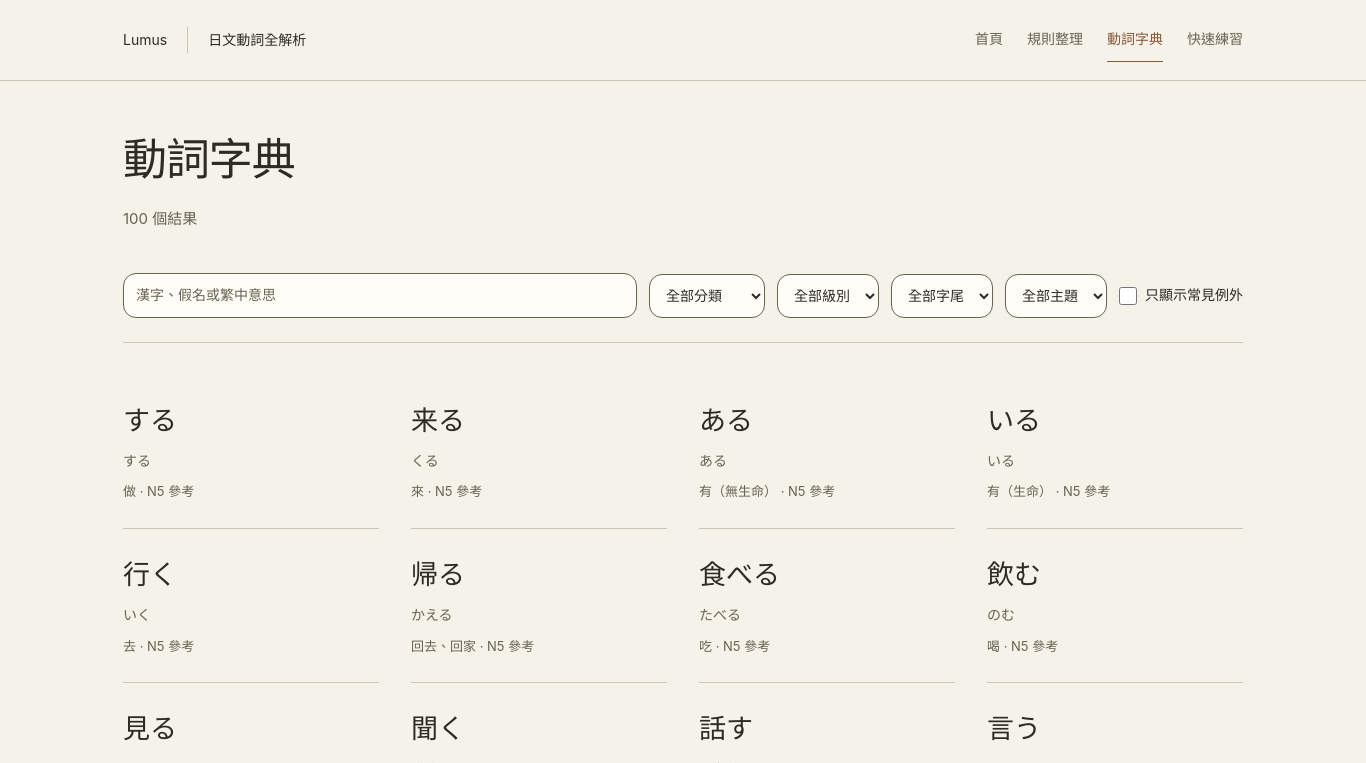
router › filters the dictionary to known exceptions
Click the checkbox labelled "只顯示常見例外" at coordinates (1128, 296), box [1119,287,1137,305]
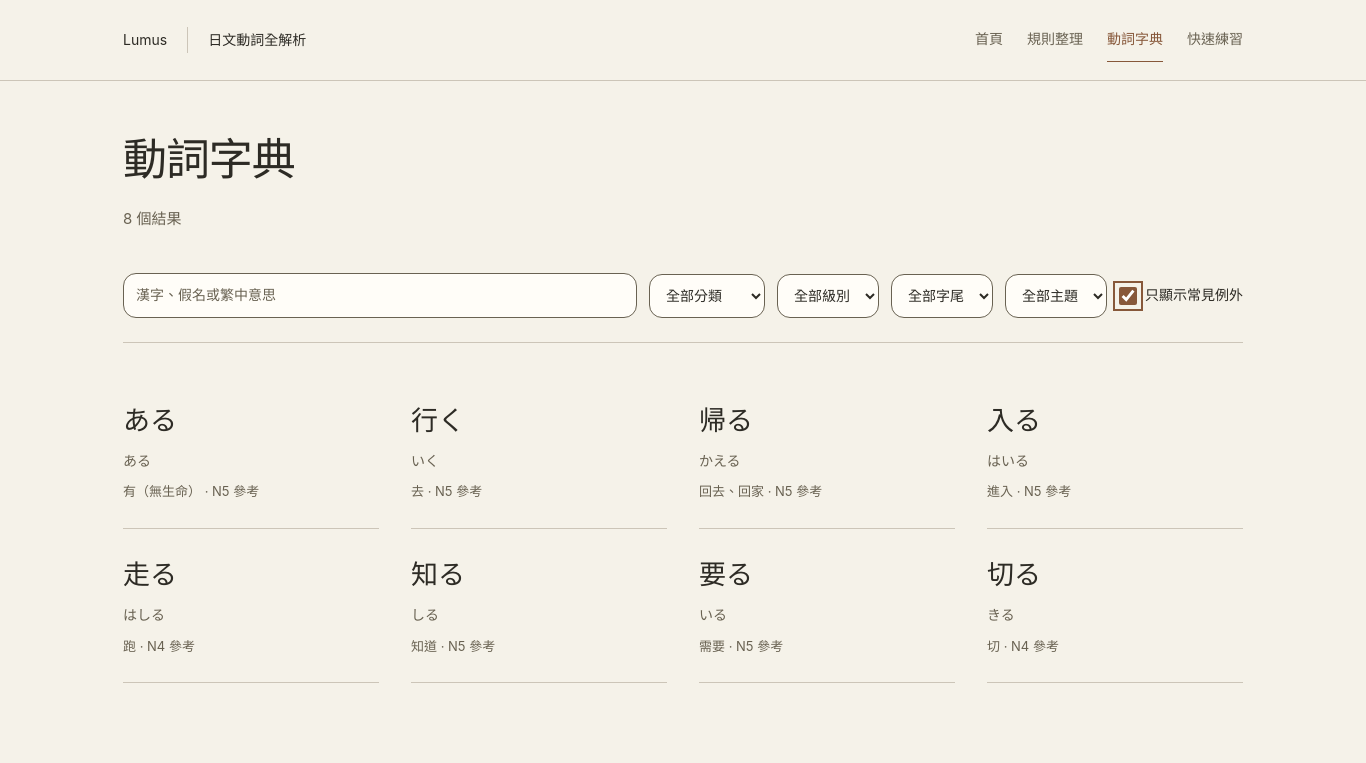
Check: the text "行く" is shown, box [411,406,465,436]
Check: the link "食べる" is gone
